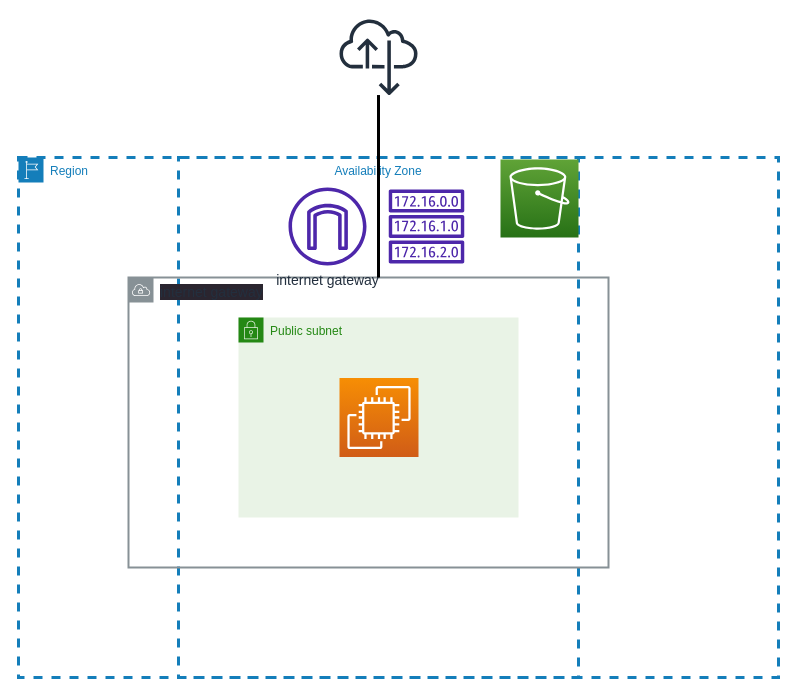
Some shapes in this 797 by 696 pixel diagram are drawn without their labels. The centre of each missing label's shape, as x and y in pixels:
"route table" belongs at [426,226].
"s3 bucket" belongs at [539,198].
